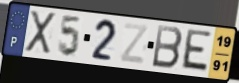2: (89, 17, 119, 64)
5: (56, 14, 84, 58)
B: (150, 24, 185, 71)
E: (179, 28, 213, 75)
X: (24, 9, 57, 55)
Z: (118, 22, 151, 67)
